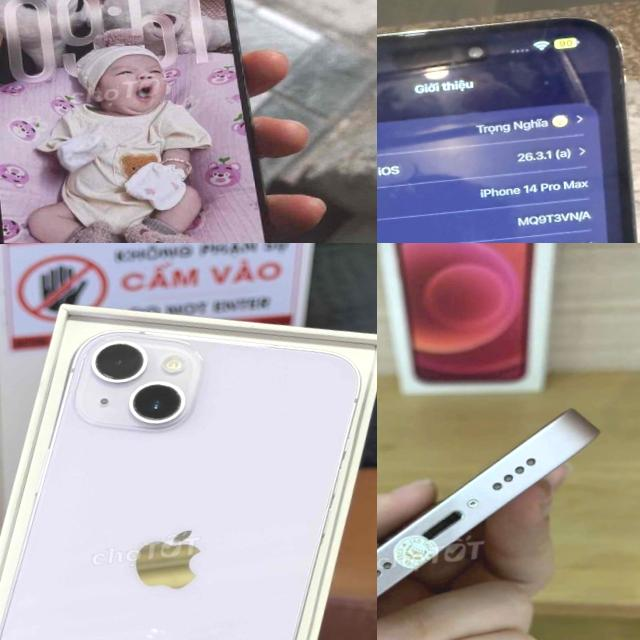gen_12_13: (377, 403, 632, 640)
gen_14: (0, 299, 377, 640), (377, 0, 640, 243)
gen_15: (0, 0, 287, 243)
scratch: (377, 22, 403, 54)
